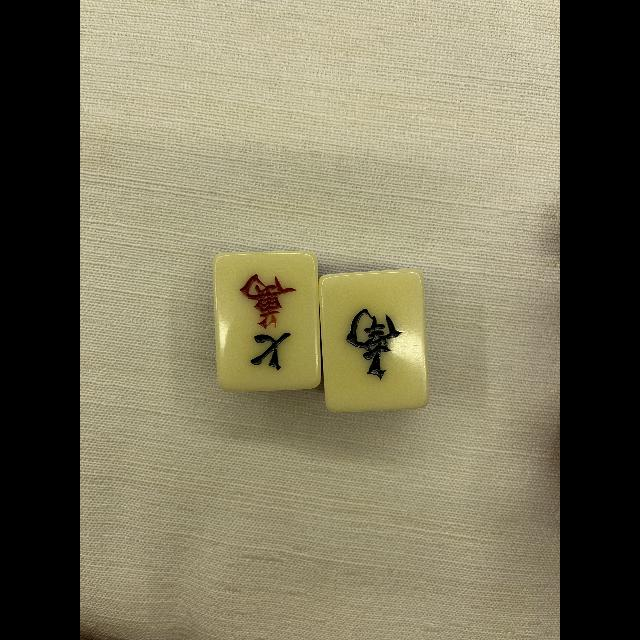c7: (218, 252, 316, 388)
ws: (326, 273, 422, 407)
